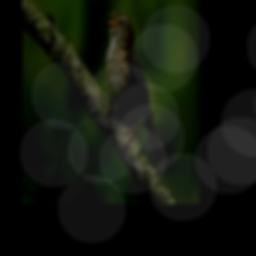Sparrow: (105, 8, 169, 170)
